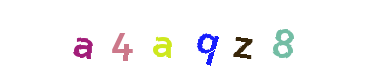4: (123, 0, 203, 80)
8: (234, 0, 314, 80)
A: (64, 0, 144, 80), (150, 0, 230, 80)
Q: (168, 0, 248, 80)
Z: (203, 0, 283, 80)
